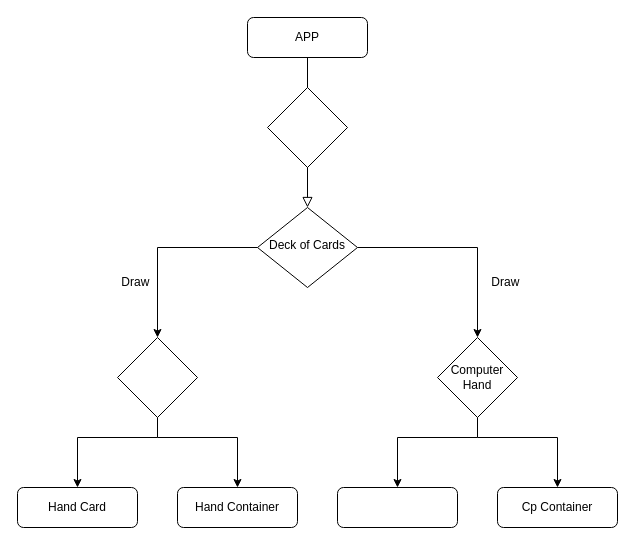
This 635x545 diagram has some shape labels left out. Here are the shapes that lost their labels. From the top down, the box of each, then its label:
(266, 86, 348, 168): Header
(116, 336, 198, 418): Player Hand
(336, 486, 458, 528): Cp Card
